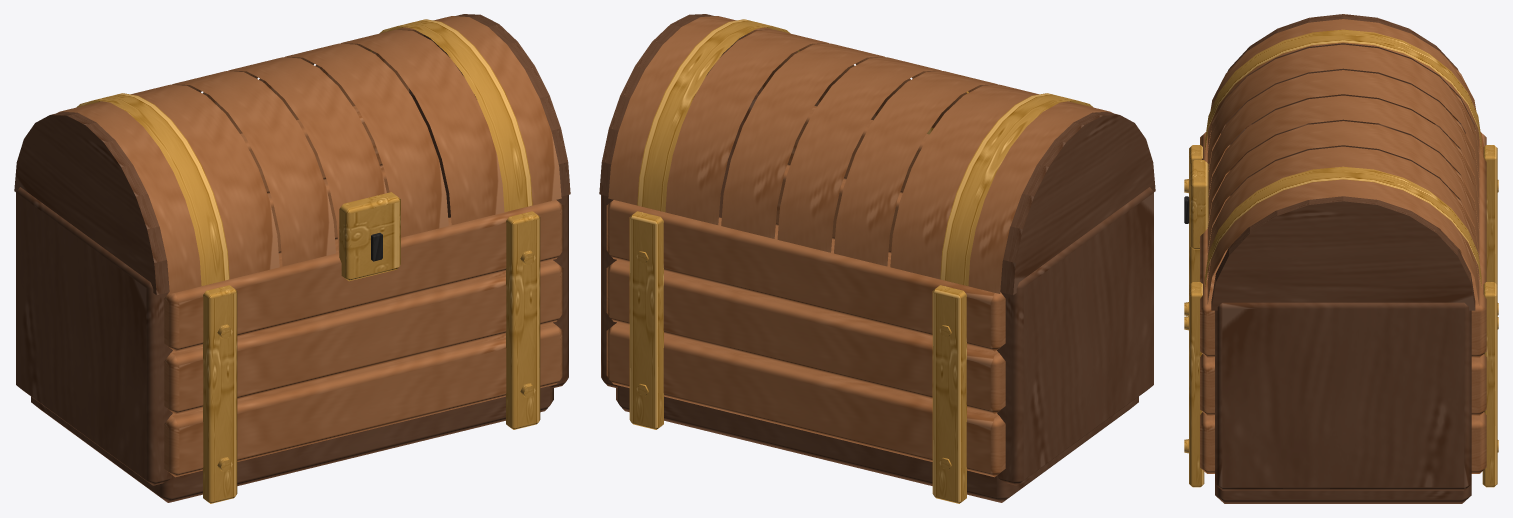
The model's file is SM_TreasureChest_Closed.glb.
The picture shows the model from 3 angles, left to right: view 1: azimuth 30°, elevation 25°; view 2: azimuth 150°, elevation 25°; view 3: azimuth 270°, elevation 25°; orthographic projection. The views are drawn at different scales.
Parts seen in each view (by area): view 1: SM_TreasureChest_Closed; view 2: SM_TreasureChest_Closed; view 3: SM_TreasureChest_Closed.
Boxes of the visible parts, <box> form: SM_TreasureChest_Closed: <box>14,14,570,503</box>; SM_TreasureChest_Closed: <box>599,14,1155,503</box>; SM_TreasureChest_Closed: <box>1184,14,1498,503</box>.
Bounding box in the file's own units: 1.2 × 0.919 × 0.834.
1 material, 1 textured.
